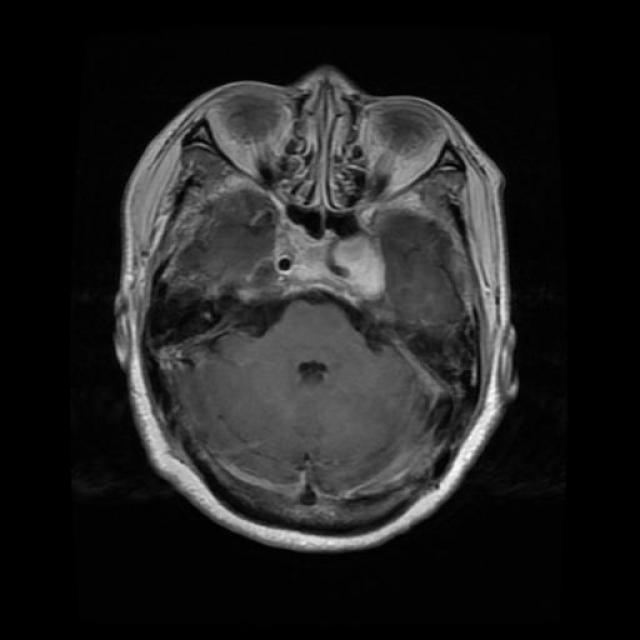meningioma: (334, 238, 385, 294)
